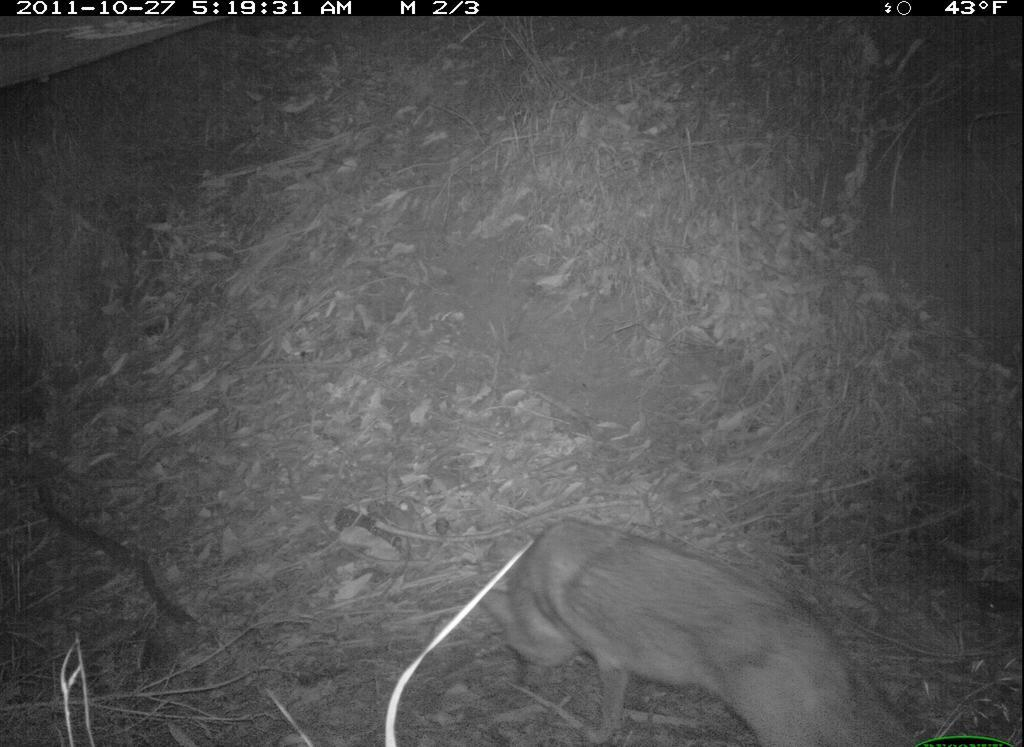coyote: (473, 514, 898, 744)
